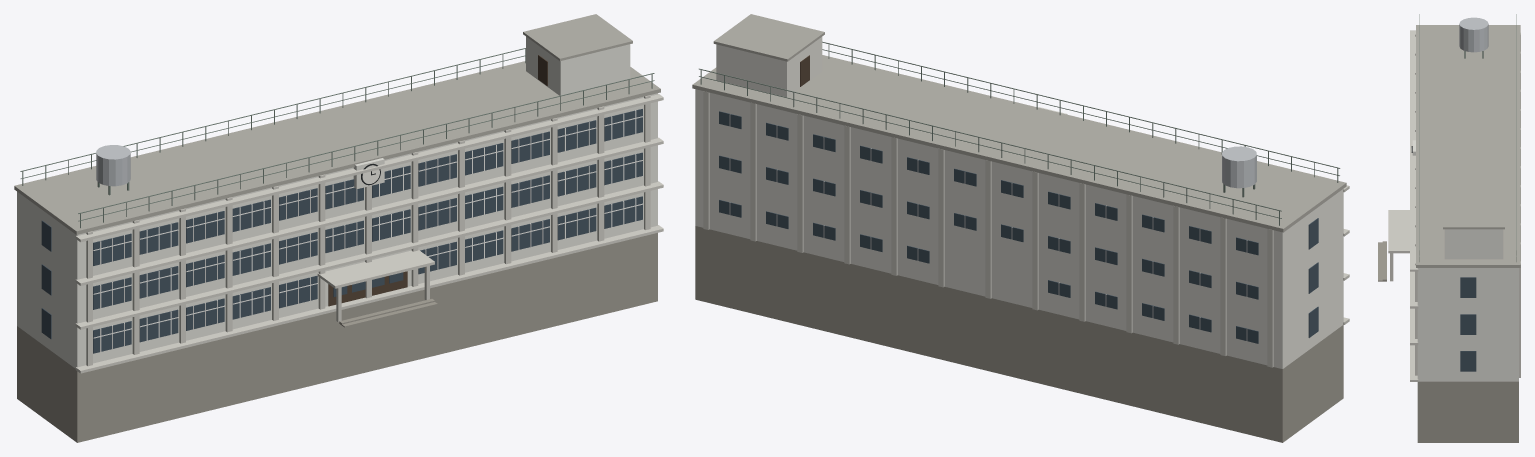
The model's file is school.glb.
3 views of the same model, side by side, from view 1: azimuth 30°, elevation 25°; view 2: azimuth 150°, elevation 25°; view 3: azimuth 270°, elevation 25° (orthographic). The views are drawn at different scales.
Visible parts, largest first — view 1: school; view 2: school; view 3: school.
Boxes of the visible parts, x1=… form: school: x1=14, y1=14, x2=663, y2=442; school: x1=692, y1=14, x2=1349, y2=442; school: x1=1378, y1=14, x2=1520, y2=442.
Size of the model in its own units: 50.3 by 20.7 by 12.66.
